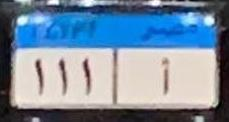1: (79, 57, 97, 97), (54, 58, 70, 96), (35, 58, 43, 94)
alif: (155, 57, 176, 98)
